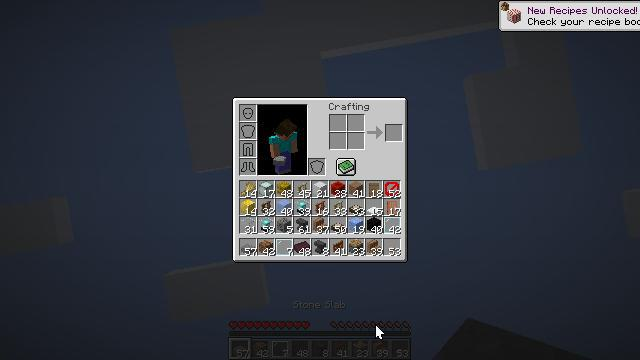cursor: (375, 324, 385, 340)
